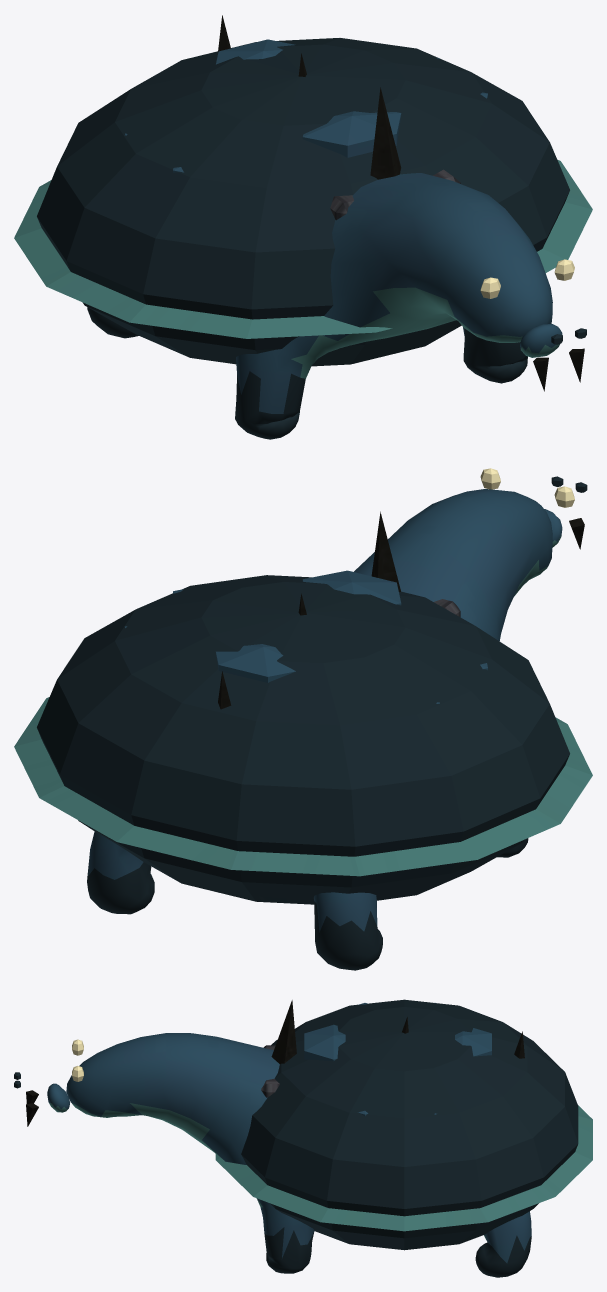
The model's file is mon_sp_tide_turtle.glb.
3 views of the same model, one above another, from view 1: azimuth 30°, elevation 25°; view 2: azimuth 150°, elevation 25°; view 3: azimuth 270°, elevation 25° (orthographic). The views are drawn at different scales.
Visible parts, largest first — view 1: mon_sp_tide_turtle; view 2: mon_sp_tide_turtle; view 3: mon_sp_tide_turtle.
Part boxes in pixels (x1=…): mon_sp_tide_turtle: x1=14, y1=15, x2=592, y2=439; mon_sp_tide_turtle: x1=14, y1=468, x2=592, y2=970; mon_sp_tide_turtle: x1=14, y1=999, x2=592, y2=1277.
Bounding box in the file's own units: 2.53 × 1.52 × 3.39.
Materials: 6 (6 with a texture image).
